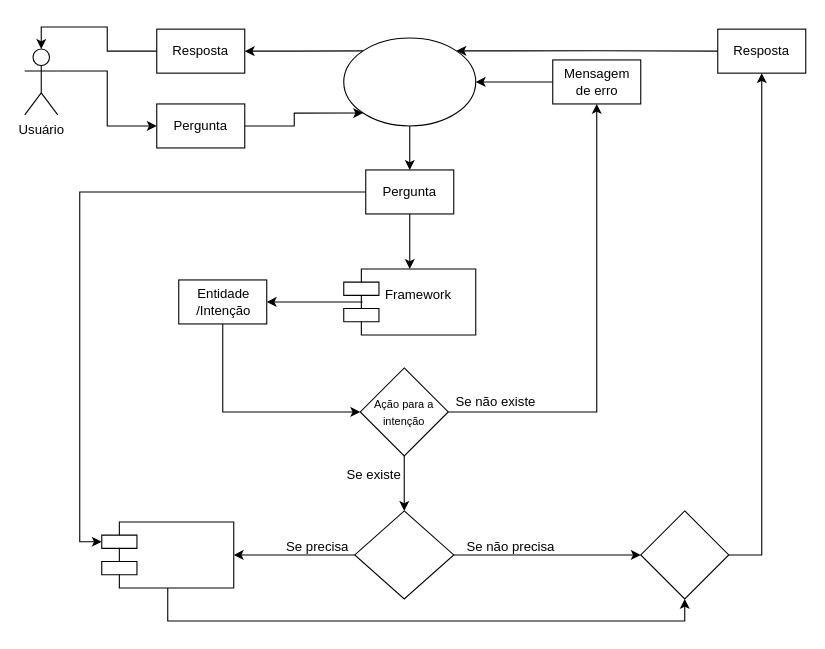
The diagram is 825 pixels wide and 649 high, and some of its shapes have lost their labels. The shapes that lost their labels are listed below. From the top down, each one's centre as x and y in pixels, then its label:
At [409,81]: "Messenger".
At [167,554]: "Extração do termo principal".
At [404,554]: "Intenção precisa de análise semântica".
At [684,554]: "Execução".
